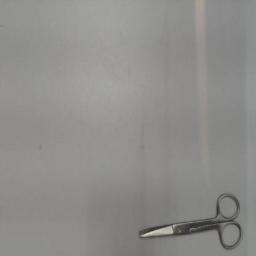Dressing Scissors: (134, 186, 246, 254)
